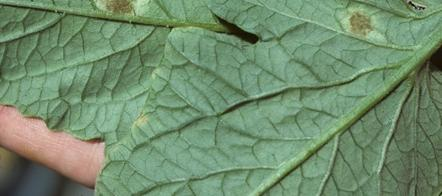Tomato mold leaf: (64, 0, 442, 196), (0, 0, 442, 152)
